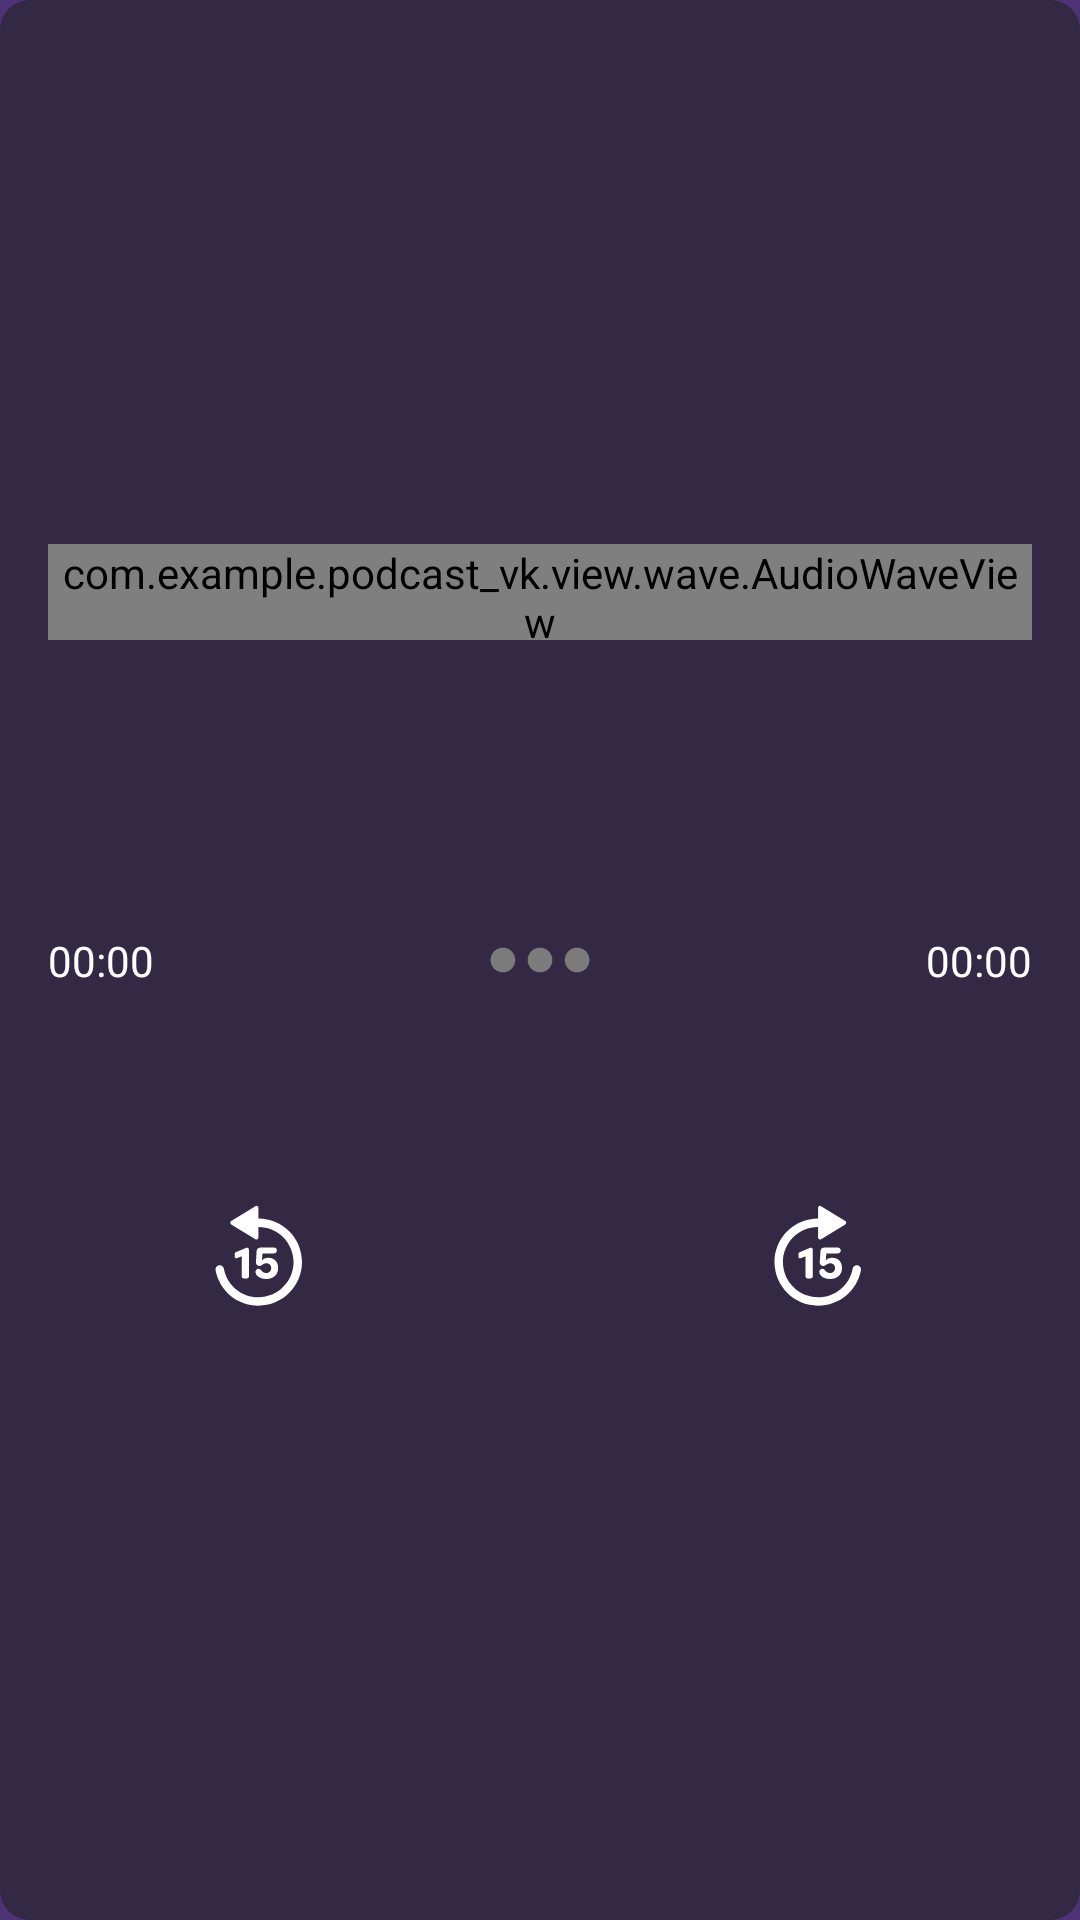

Screen size 1080px x 1920px. Icon name, then its center in pixels as (x,y):
forward: (817,1255)
replay: (258,1255)
